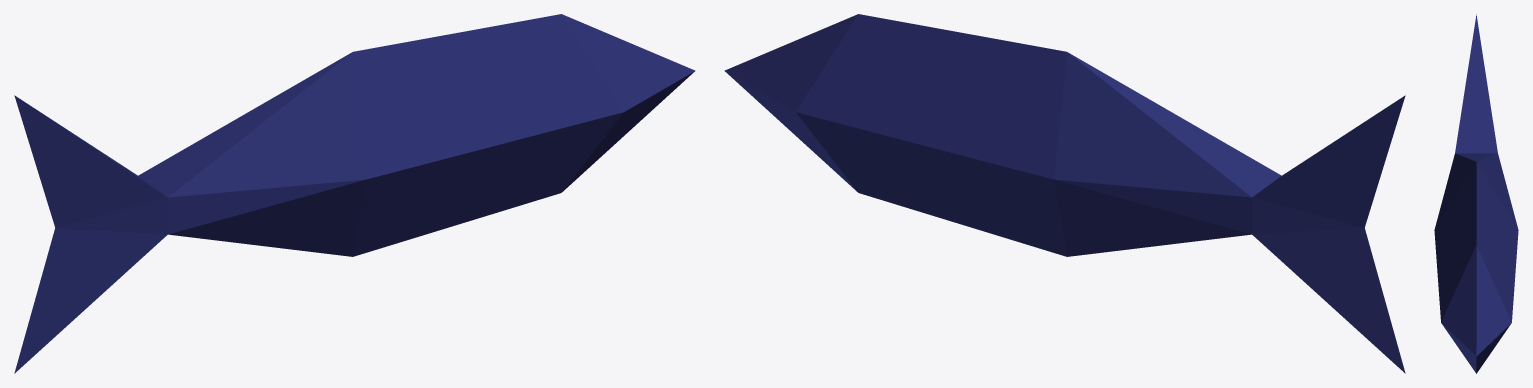
Rendered from Fish3.fbx.
The picture shows the model from 3 angles, left to right: view 1: azimuth 30°, elevation 25°; view 2: azimuth 150°, elevation 25°; view 3: azimuth 270°, elevation 25°; orthographic projection. The views are drawn at different scales.
Visible parts, largest first — view 1: Fish3; view 2: Fish3; view 3: Fish3.
Part boxes in pixels (x1,y1,x2,y2): Fish3: (14, 14, 695, 373); Fish3: (724, 14, 1405, 373); Fish3: (1434, 14, 1518, 373).
Size of the model in its own units: 0.5432 by 0.2124 by 0.0804.
